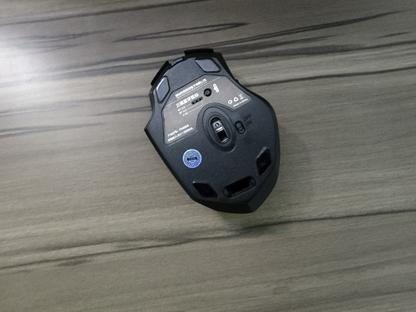mouse: (142, 47, 280, 215)
